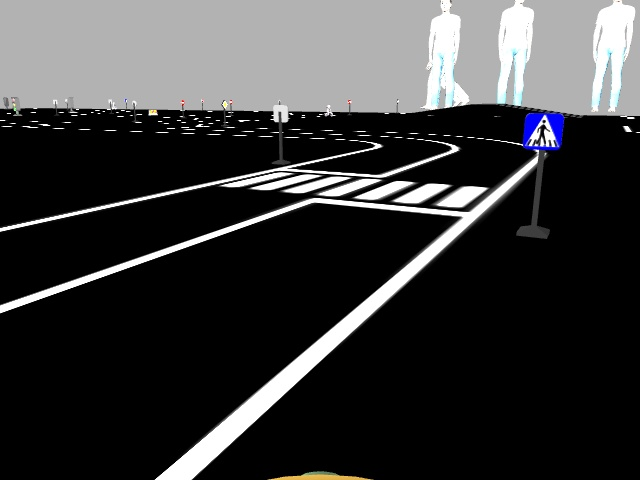Crosswalk: (523, 113, 562, 149)
